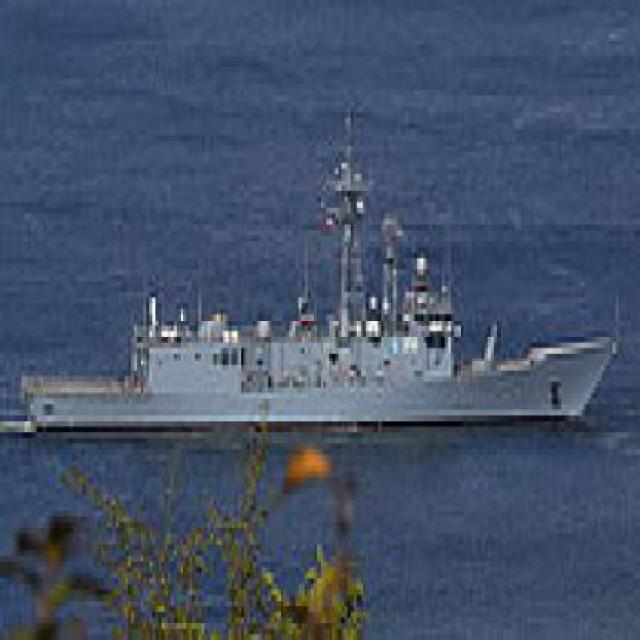warship2: (4, 136, 623, 451)
